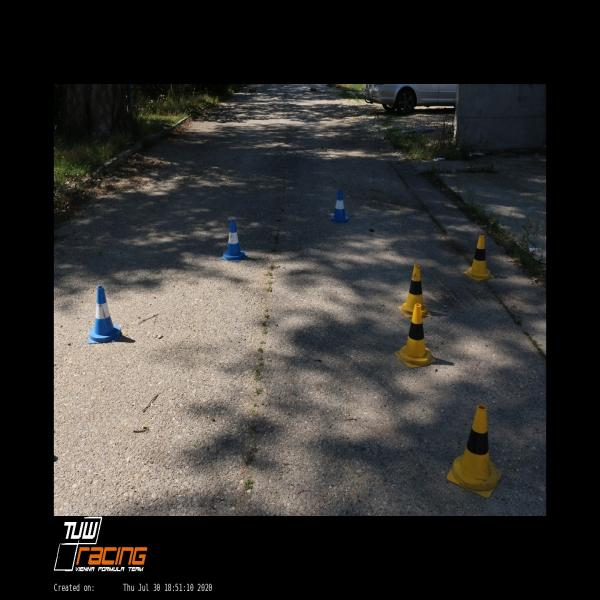blue_cone: (88, 286, 120, 343), (220, 220, 248, 262), (330, 189, 350, 223)
yellow_cone: (447, 404, 501, 498), (394, 304, 436, 368), (399, 264, 431, 318), (464, 234, 494, 280)
